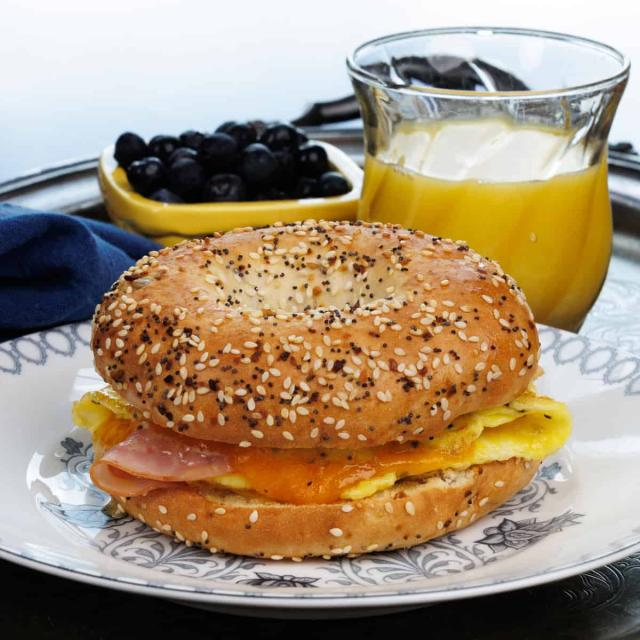Bagel: (91, 220, 539, 448), (420, 346, 432, 354)
